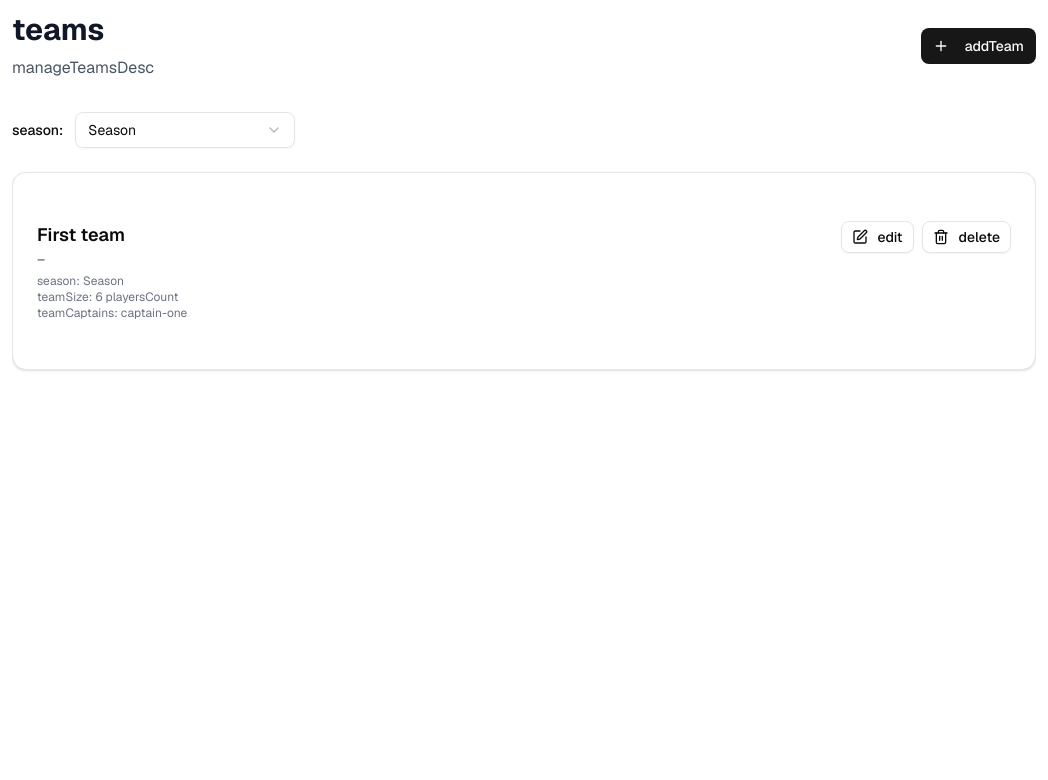
shows assignment errors and keeps the editor open
Click the button "edit" at (877, 237), box left=840, top=221, right=914, bottom=253
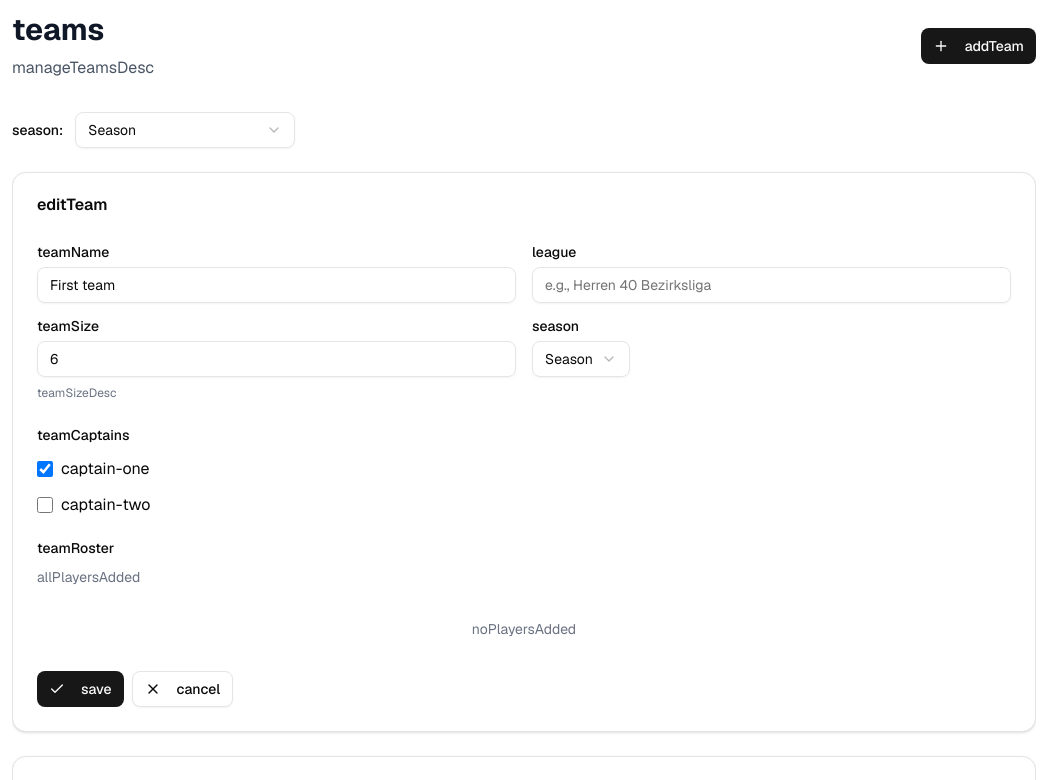
Click the button "save" at (80, 689), box left=37, top=671, right=124, bottom=707
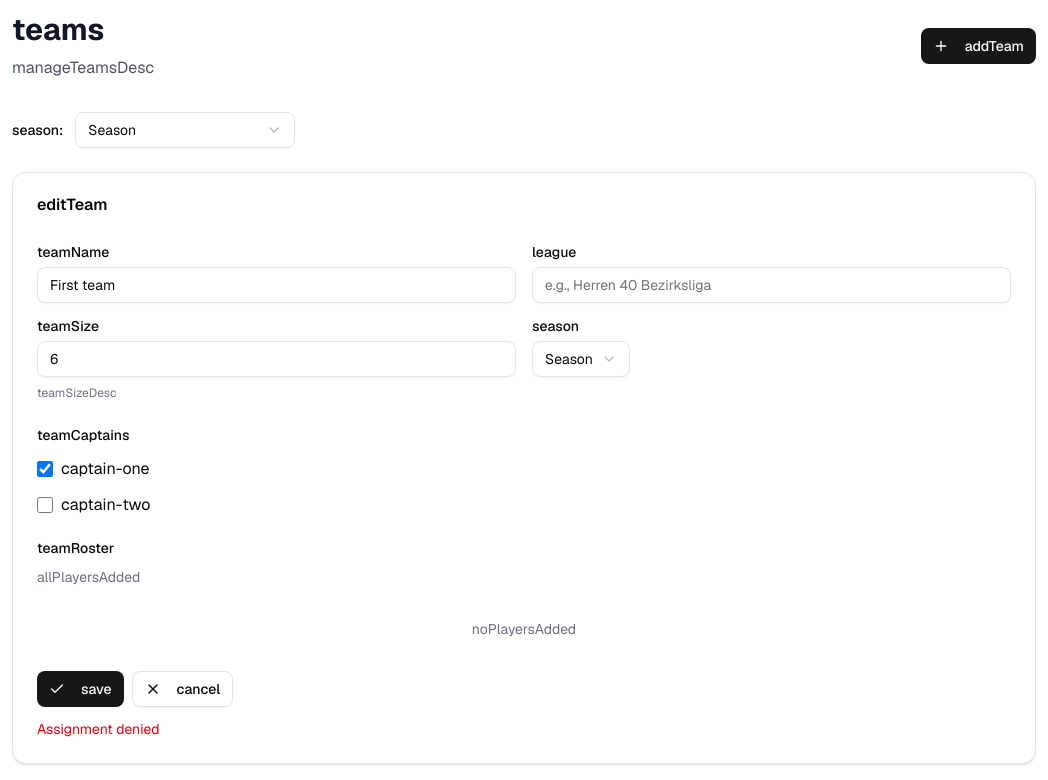
Result: the checkbox labelled "captain-one" is shown at left=37, top=461, right=53, bottom=477
Result: the message reads "Assignment denied" at left=37, top=720, right=160, bottom=738
